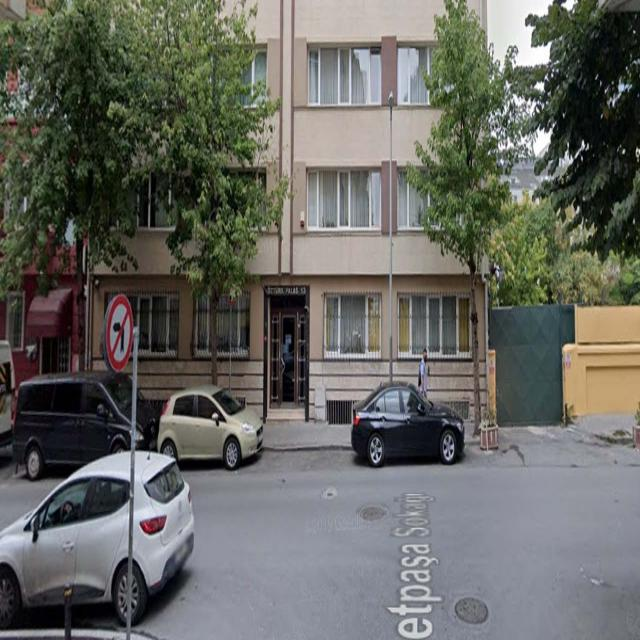soladonulmez: (106, 294, 132, 374)
